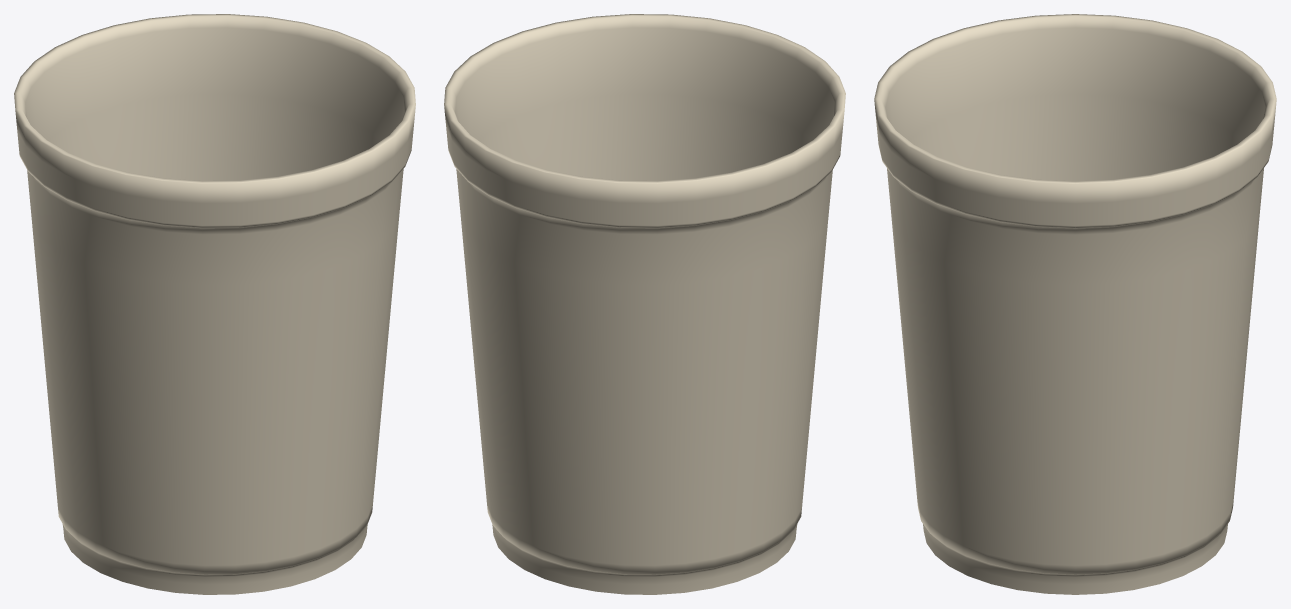
File: coffeecupblend.fbx
3 renders of one model, left to right at view 1: azimuth 30°, elevation 25°; view 2: azimuth 150°, elevation 25°; view 3: azimuth 270°, elevation 25°, orthographic.
Parts seen in each view (by area): view 1: Cylinder; view 2: Cylinder; view 3: Cylinder.
Part boxes in pixels (x1,y1,x2,y2): Cylinder: (14, 14, 415, 594); Cylinder: (444, 14, 845, 594); Cylinder: (874, 14, 1276, 594).
Bounding box in the file's own units: 32.35 × 38.28 × 32.35.
